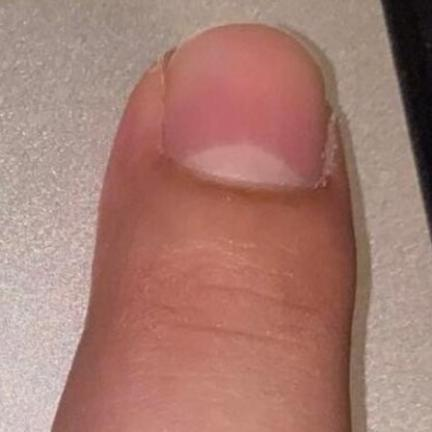Nail: (164, 20, 332, 190)
